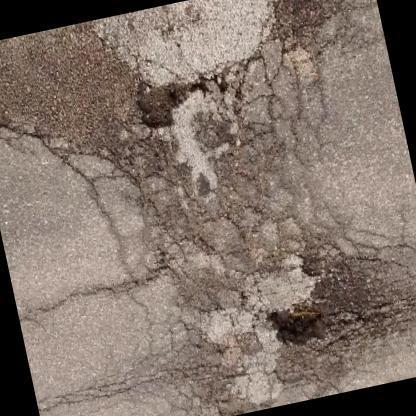pothole: (264, 249, 380, 350), (132, 67, 246, 131)
